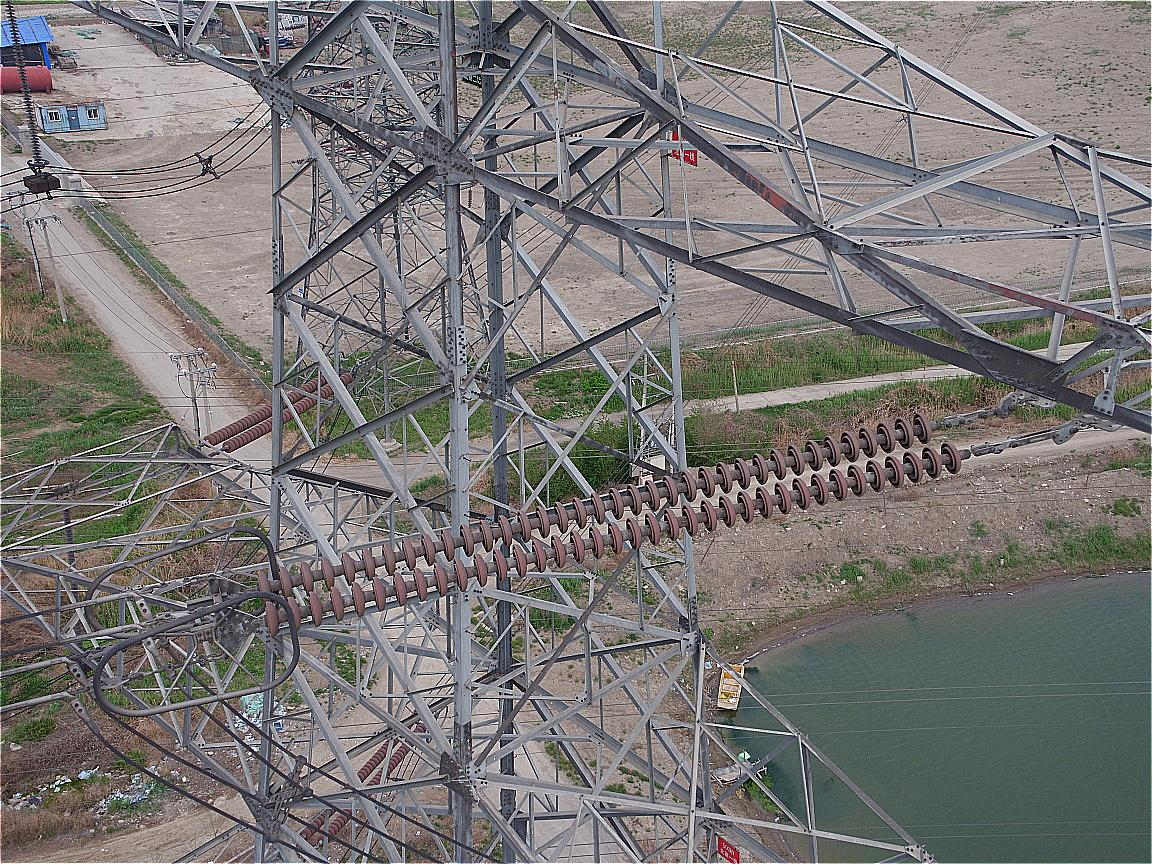insultor1: (256, 411, 963, 639)
